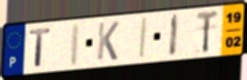I: (68, 21, 82, 68), (168, 12, 181, 58), (138, 16, 150, 61)
K: (96, 21, 121, 62)
T: (195, 8, 220, 55), (28, 27, 53, 69)
